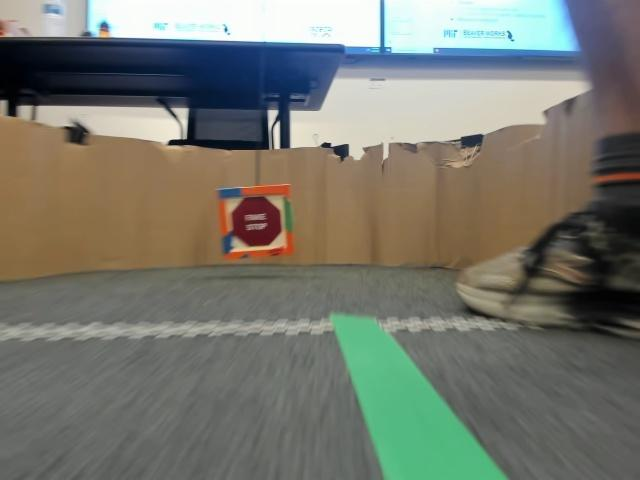Fake Stop: (228, 198, 278, 248)
